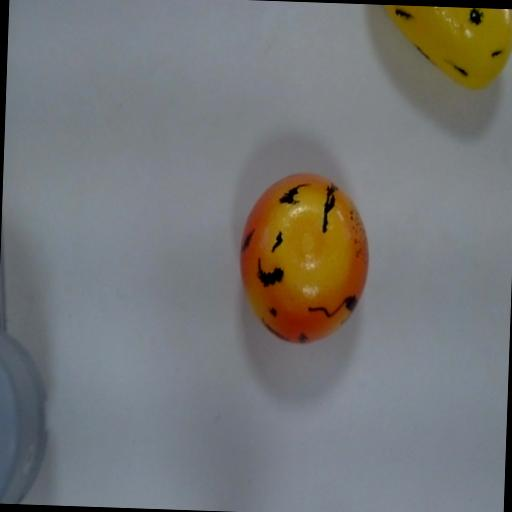Defective: (217, 162, 376, 366), (335, 3, 512, 98)
